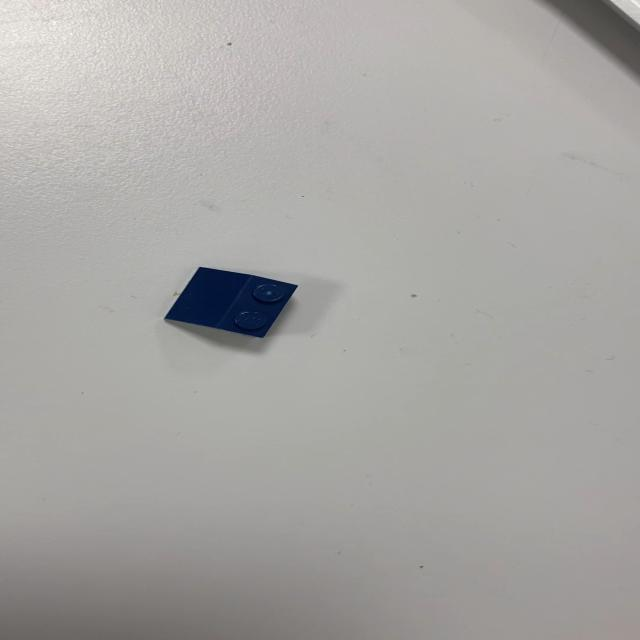P2x2x1: (162, 265, 300, 339)
